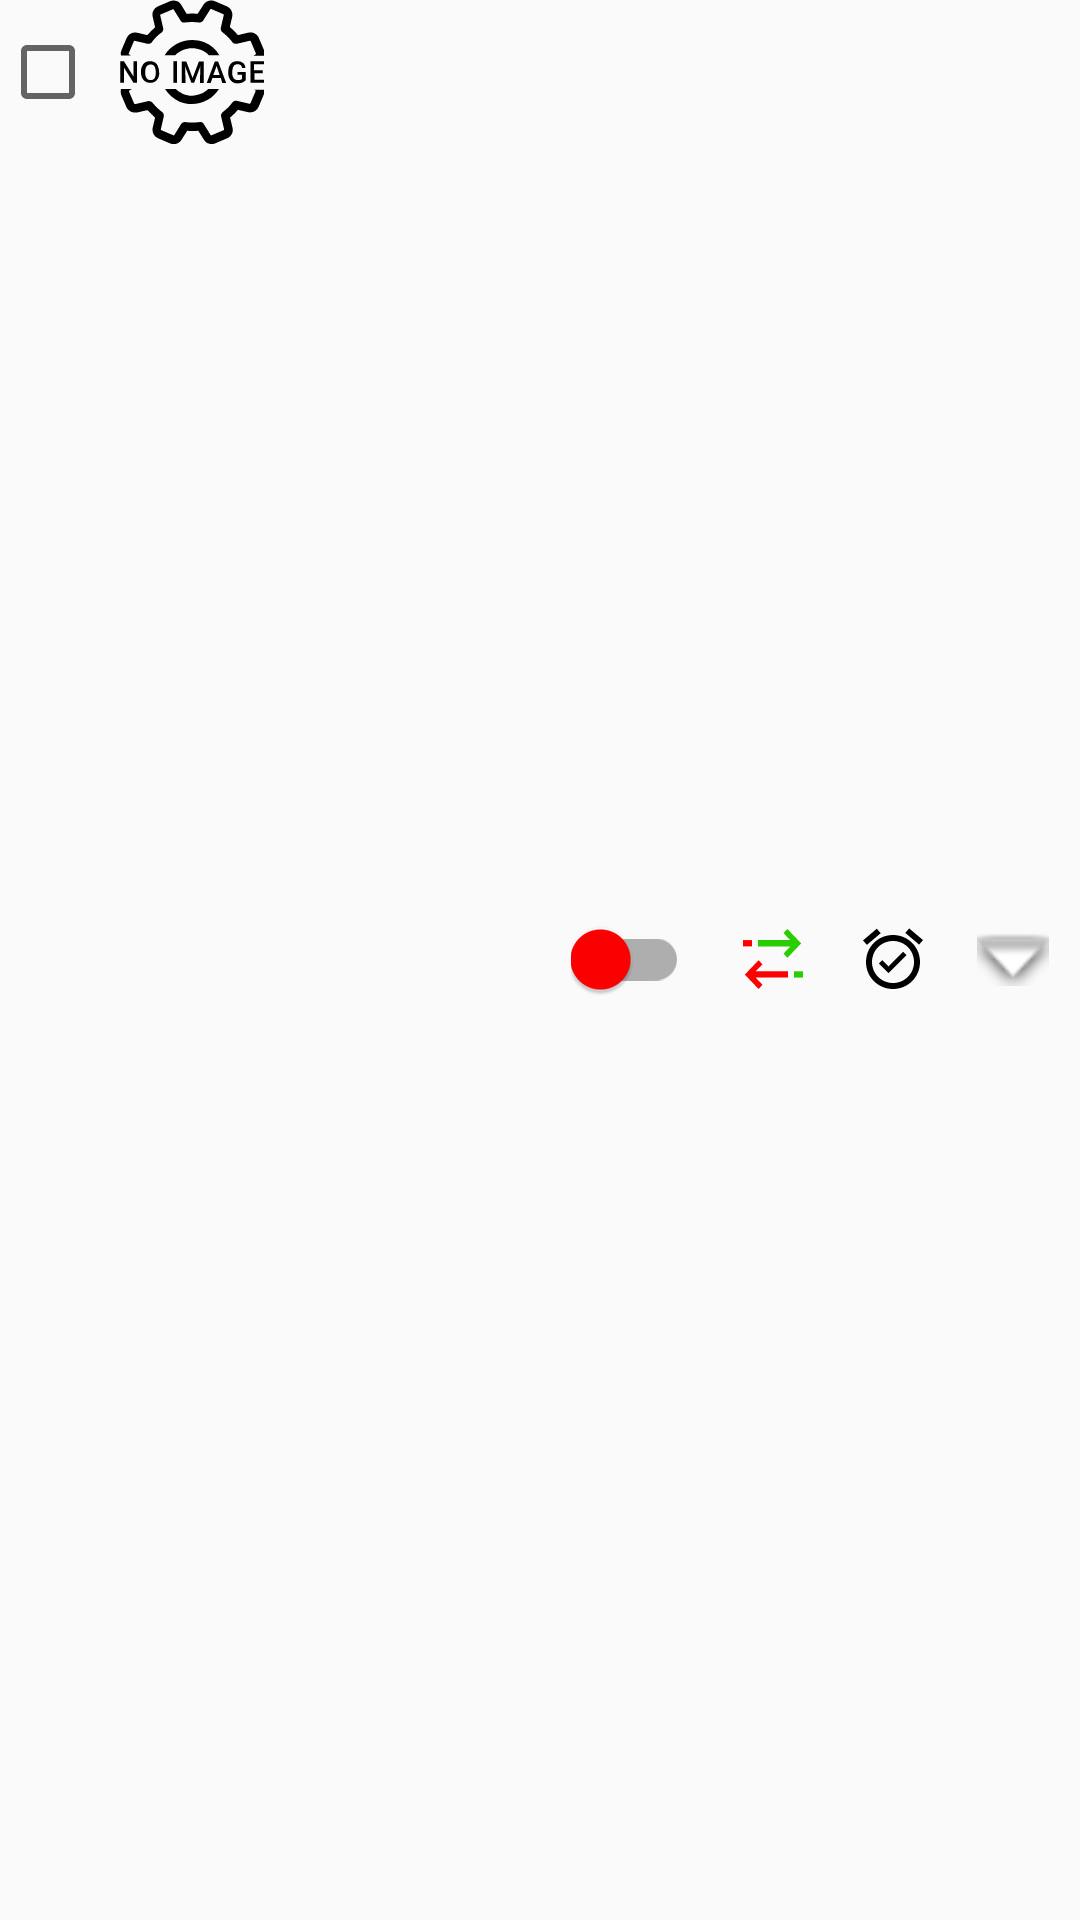

Named icons in this screenshot (1080×1920) and their centers, [x,y]:
alarm activated: [893,958]
arrow down float: [1013,959]
